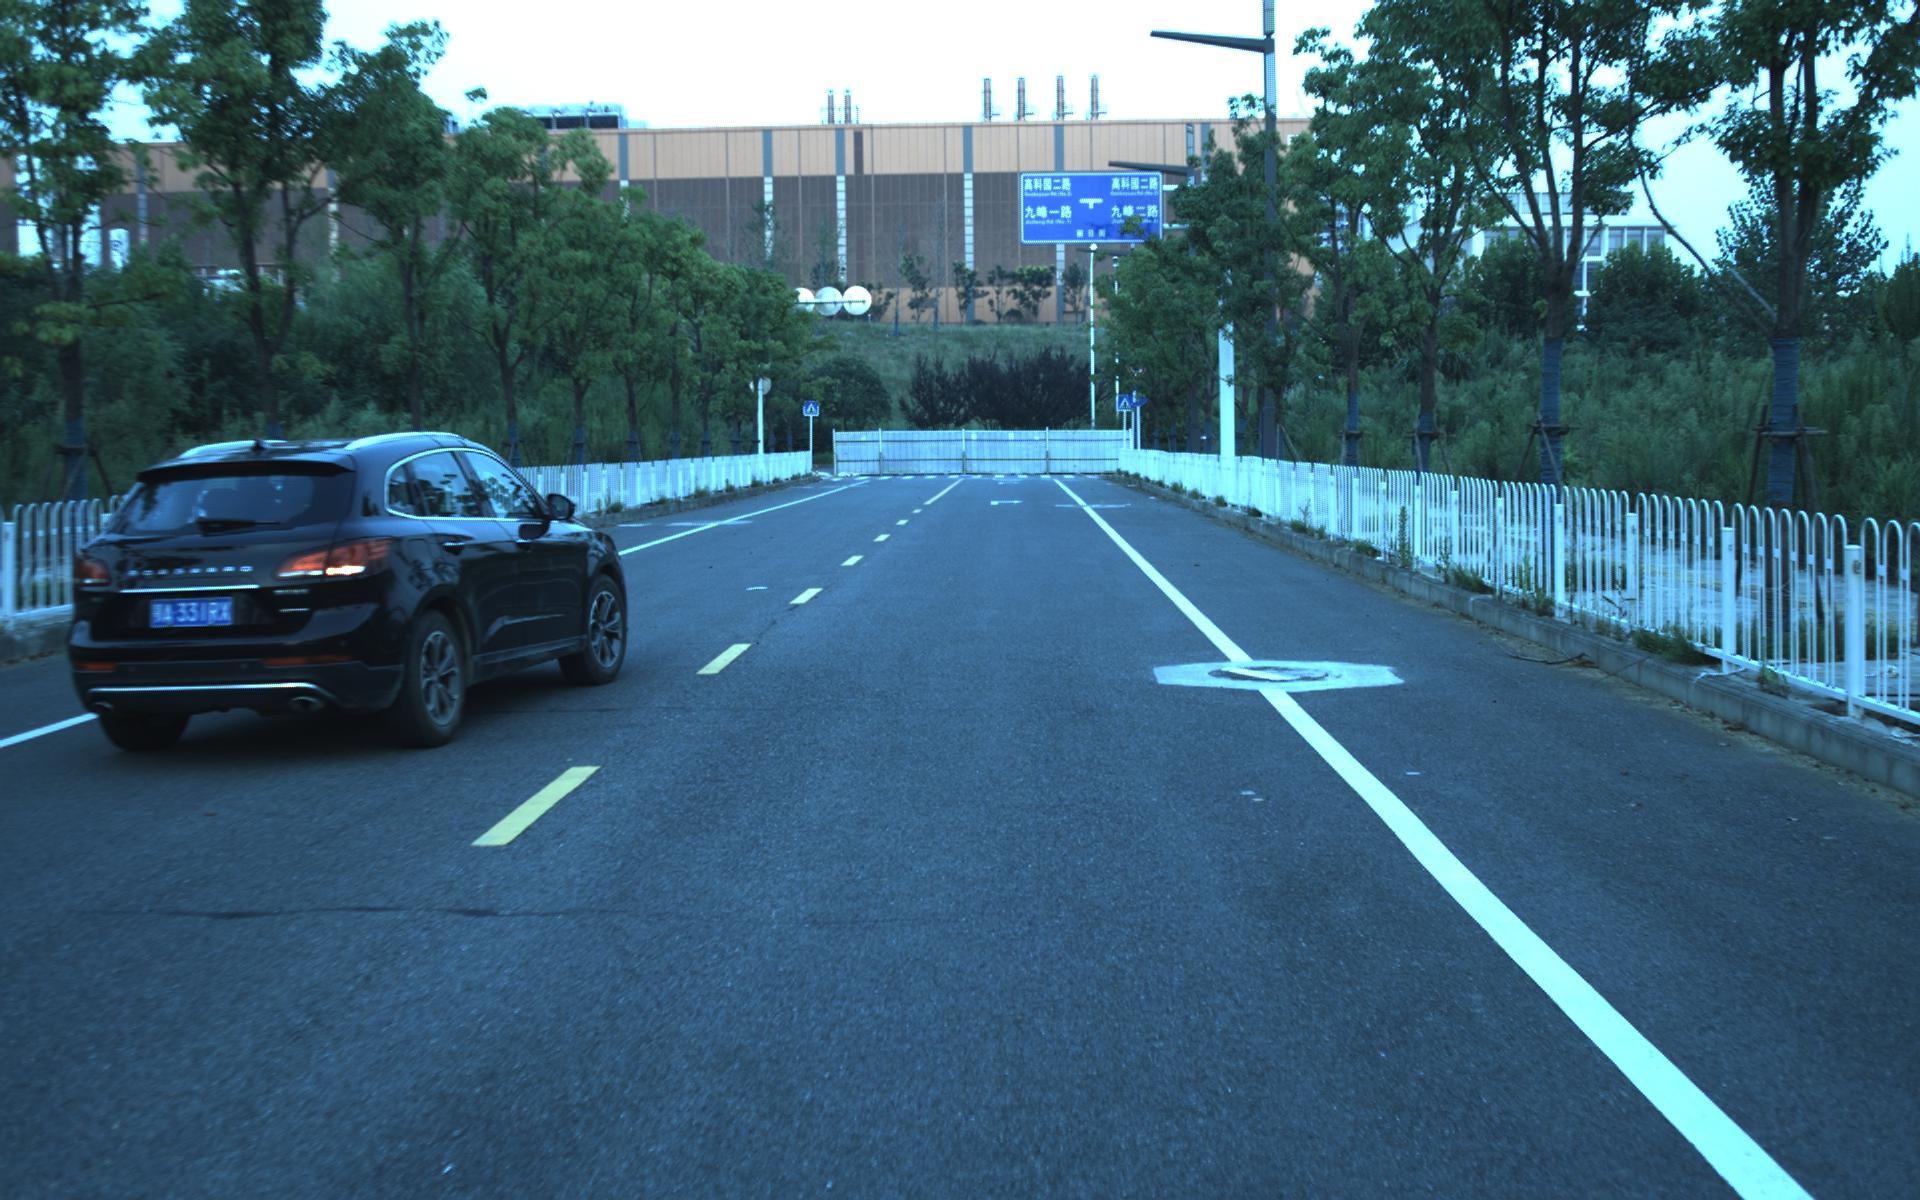Car: (43, 412, 628, 762)
